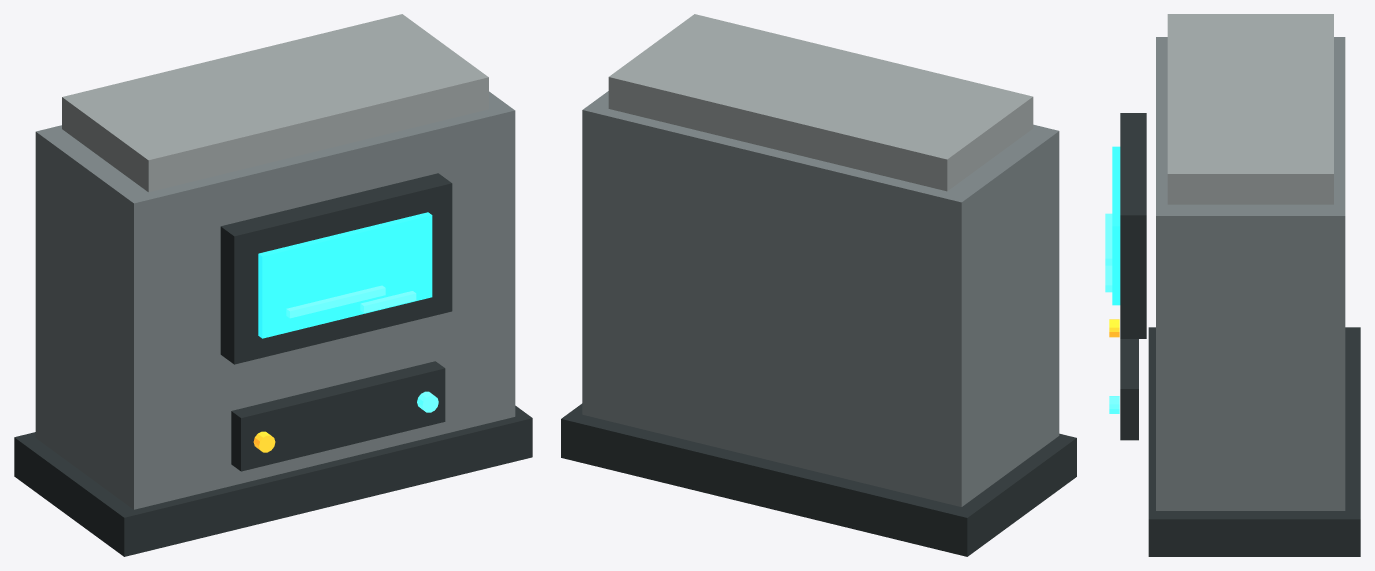
Rendered from console_generic.glb.
3 renders of one model, left to right at view 1: azimuth 30°, elevation 25°; view 2: azimuth 150°, elevation 25°; view 3: azimuth 270°, elevation 25°, orthographic. The views are drawn at different scales.
Visible parts, largest first — view 1: console_generic_housing, console_generic_top_cap, console_generic_mount_rail, console_generic_screen_bezel, console_generic_screen_glass, console_generic_lower_panel, console_generic_screen_ui_bar_a, console_generic_screen_ui_bar_b; view 2: console_generic_housing, console_generic_top_cap, console_generic_mount_rail; view 3: console_generic_housing, console_generic_top_cap, console_generic_mount_rail, console_generic_screen_bezel, console_generic_lower_panel, console_generic_screen_glass, console_generic_screen_ui_bar_a.
Part boxes in pixels (x1,y1,x2,y2): console_generic_housing: (35, 91, 515, 509); console_generic_top_cap: (62, 14, 488, 192); console_generic_mount_rail: (14, 405, 532, 556); console_generic_screen_bezel: (220, 173, 452, 364); console_generic_screen_glass: (258, 212, 432, 338); console_generic_lower_panel: (231, 361, 445, 471); console_generic_screen_ui_bar_a: (286, 285, 385, 318); console_generic_screen_ui_bar_b: (360, 291, 416, 312); console_generic_housing: (582, 91, 1059, 506); console_generic_top_cap: (608, 14, 1033, 191); console_generic_mount_rail: (561, 403, 1076, 556); console_generic_housing: (1156, 37, 1345, 510); console_generic_top_cap: (1167, 14, 1333, 204); console_generic_mount_rail: (1148, 327, 1360, 556); console_generic_screen_bezel: (1120, 113, 1146, 338); console_generic_lower_panel: (1120, 339, 1138, 440); console_generic_screen_glass: (1112, 146, 1120, 305); console_generic_screen_ui_bar_a: (1105, 213, 1112, 265).
Size of the model in its own units: 0.6 by 0.535 by 0.337.
